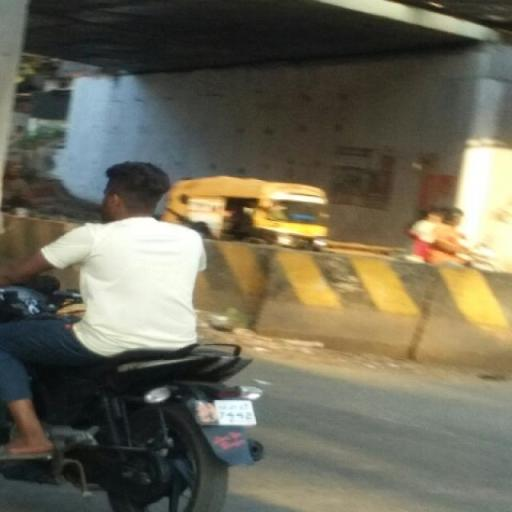bike: (2, 155, 266, 512)
withouthelmet: (105, 162, 170, 217)
